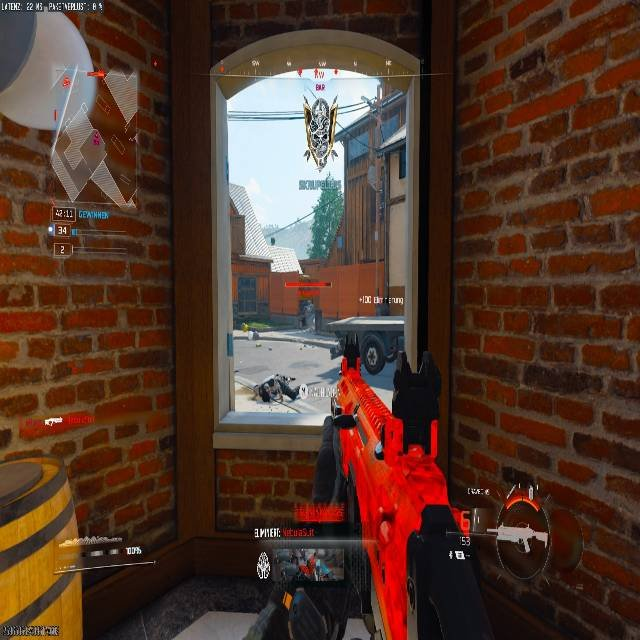player: (299, 298, 315, 329)
